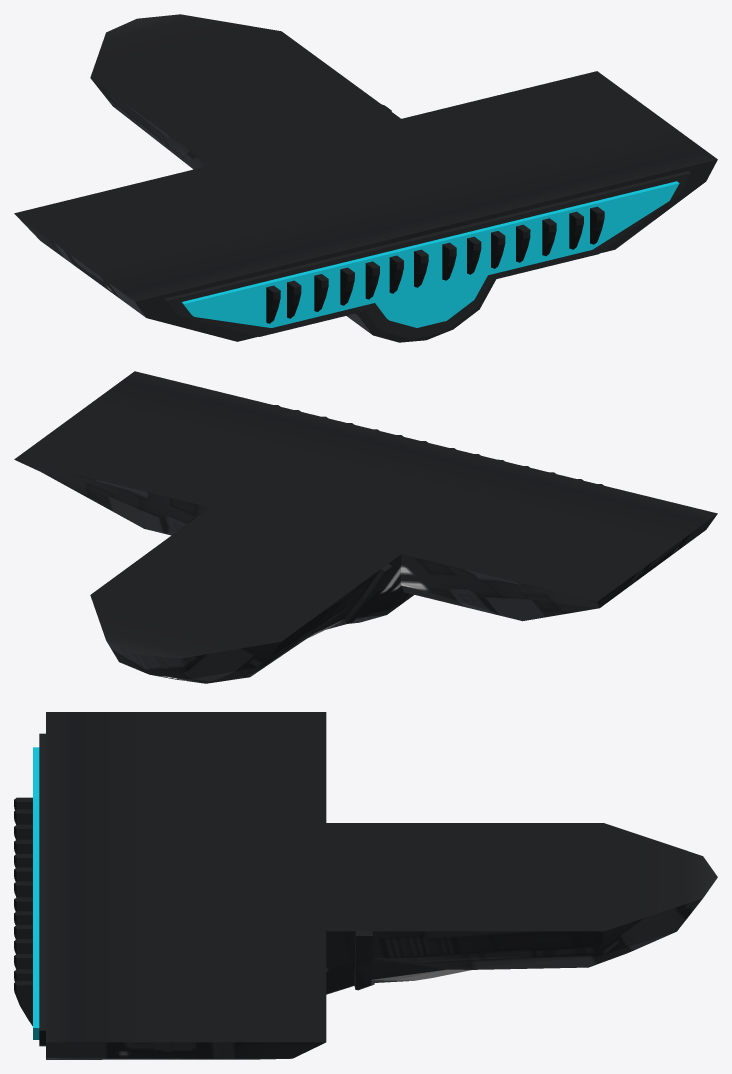
Rendered from modul.fbx.
3 views of the same model, one above another, from view 1: azimuth 30°, elevation 25°; view 2: azimuth 150°, elevation 25°; view 3: azimuth 270°, elevation 25° (orthographic). The views are drawn at different scales.
Parts seen in each view (by area): view 1: modul; view 2: modul; view 3: modul.
Part boxes in pixels (x1,y1,x2,y2): modul: (14,14,717,342); modul: (14,371,717,683); modul: (14,712,717,1059).
Size of the model in its own units: 503 by 90.46 by 453.
Materials: 1 (1 with a texture image).
